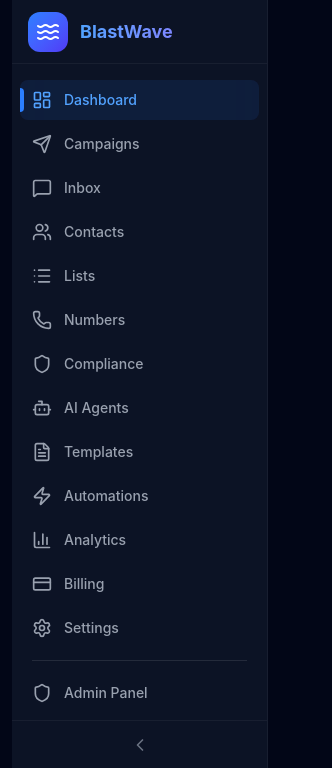
Test: Sidebar › collapses sidebar when toggle button is clicked
Expected: the text "Dashboard" is shown, 64,90 -> 137,110
Click the button at (140, 744), box 12,720 -> 267,767
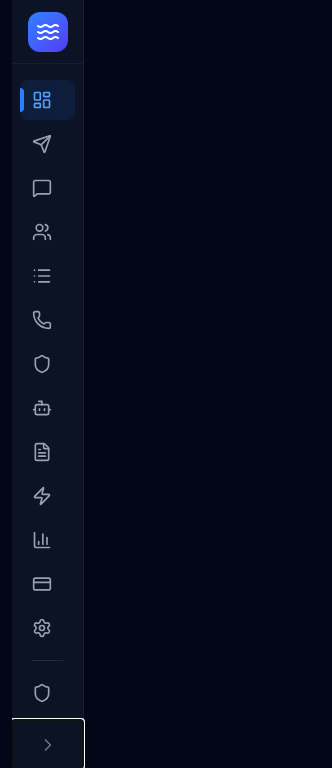
Now the text "BlastWave" is gone
